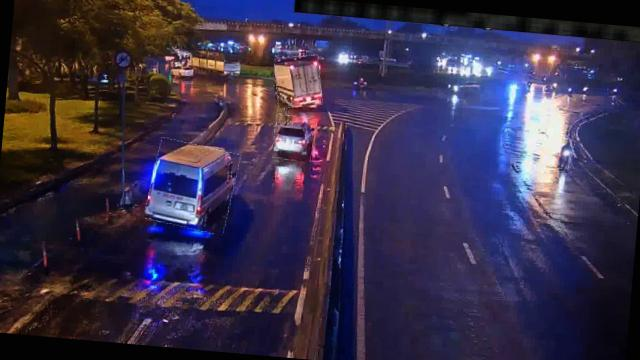Bike: (558, 138, 574, 170)
Bus: (146, 139, 238, 233)
Car: (272, 115, 316, 162)
Truck: (272, 53, 325, 111)
